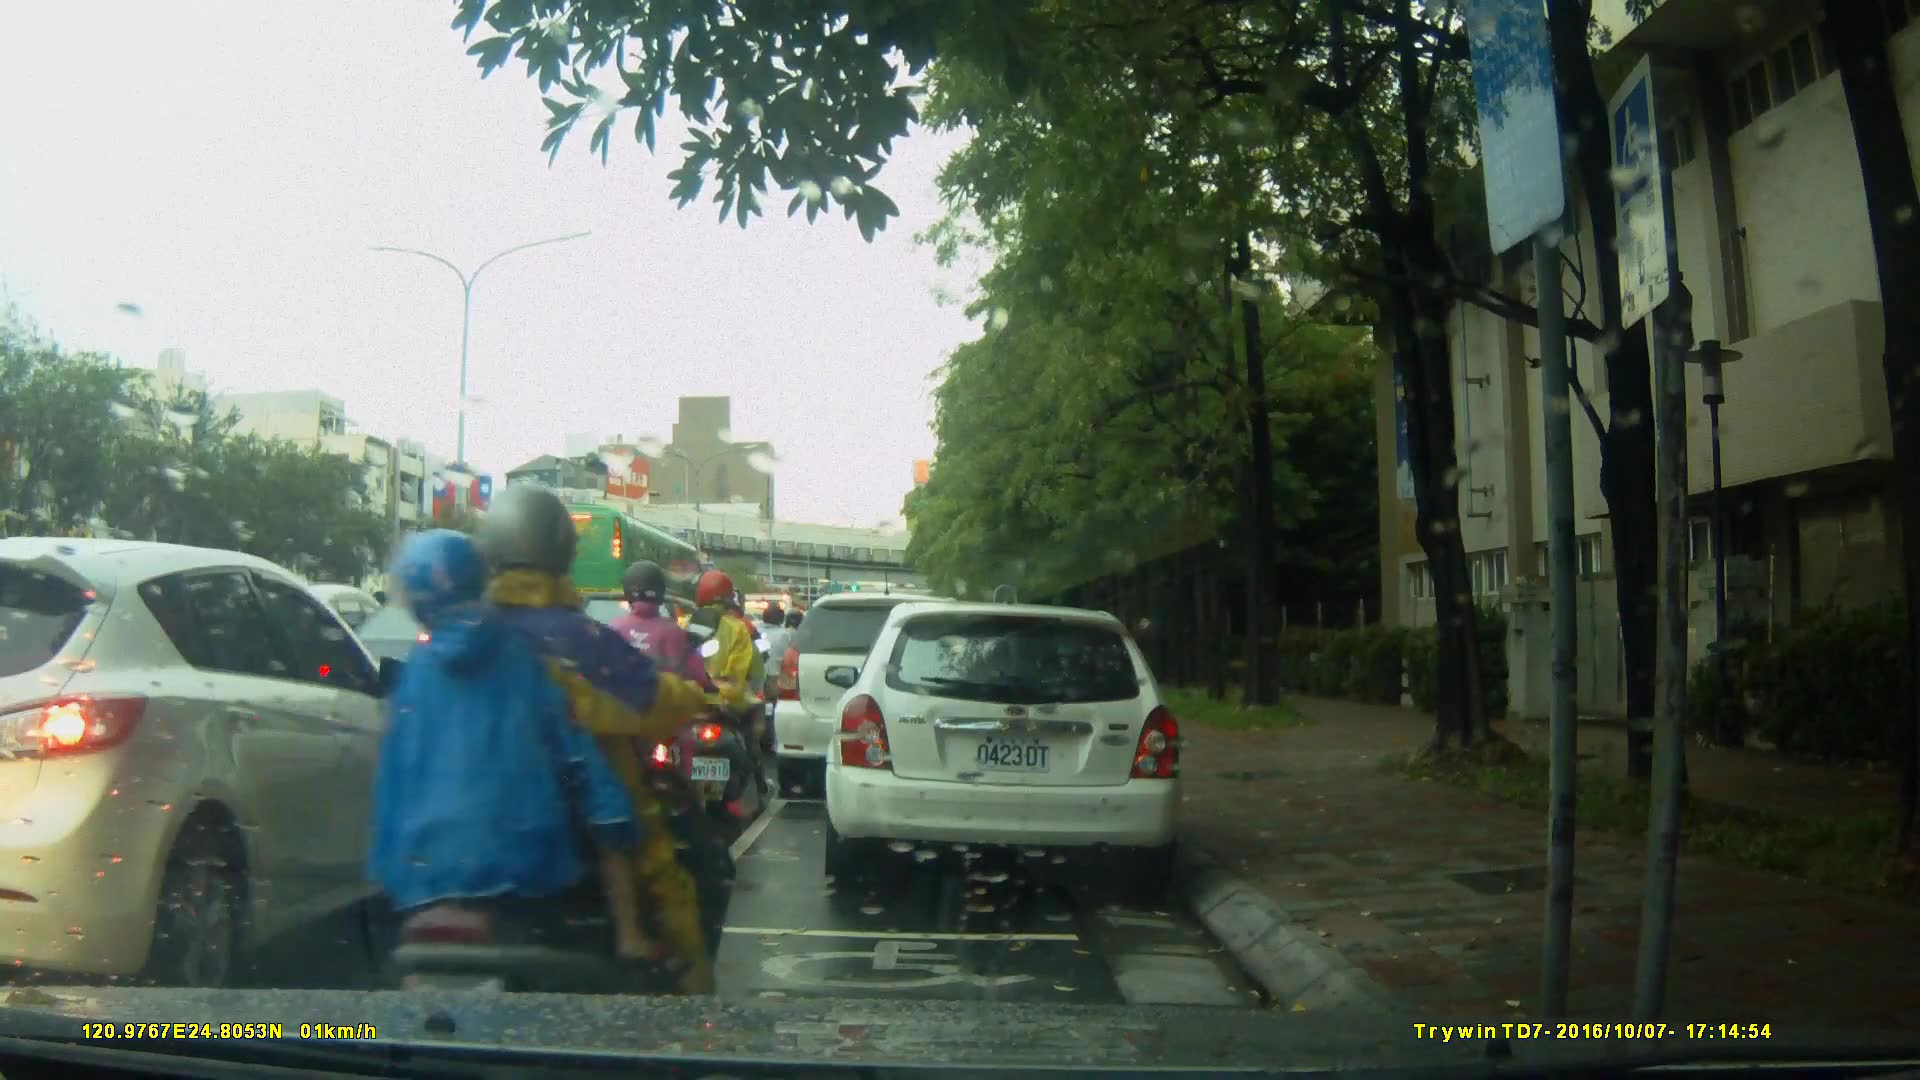rider: (386, 480, 737, 1059), (583, 565, 693, 861), (679, 567, 766, 813), (703, 592, 767, 757), (751, 598, 804, 746)
vehicle: (5, 536, 469, 988), (831, 592, 1196, 897), (315, 589, 629, 776), (770, 590, 999, 804), (498, 503, 713, 636)
